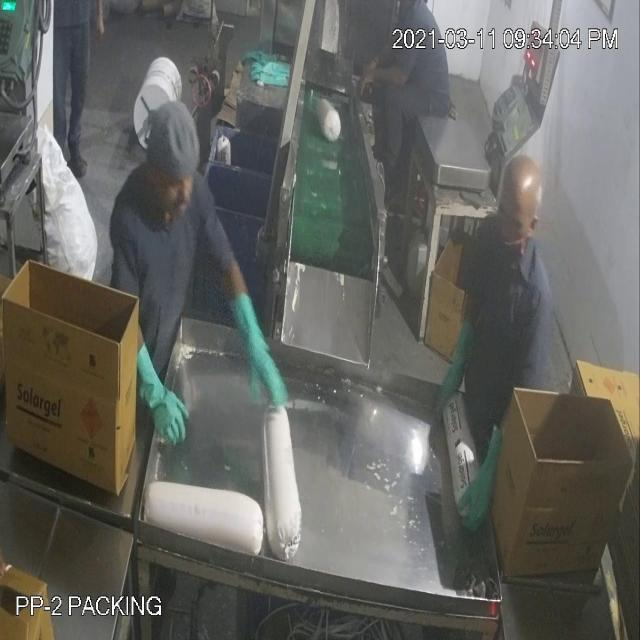No_Gloves: (56, 46, 479, 477)
